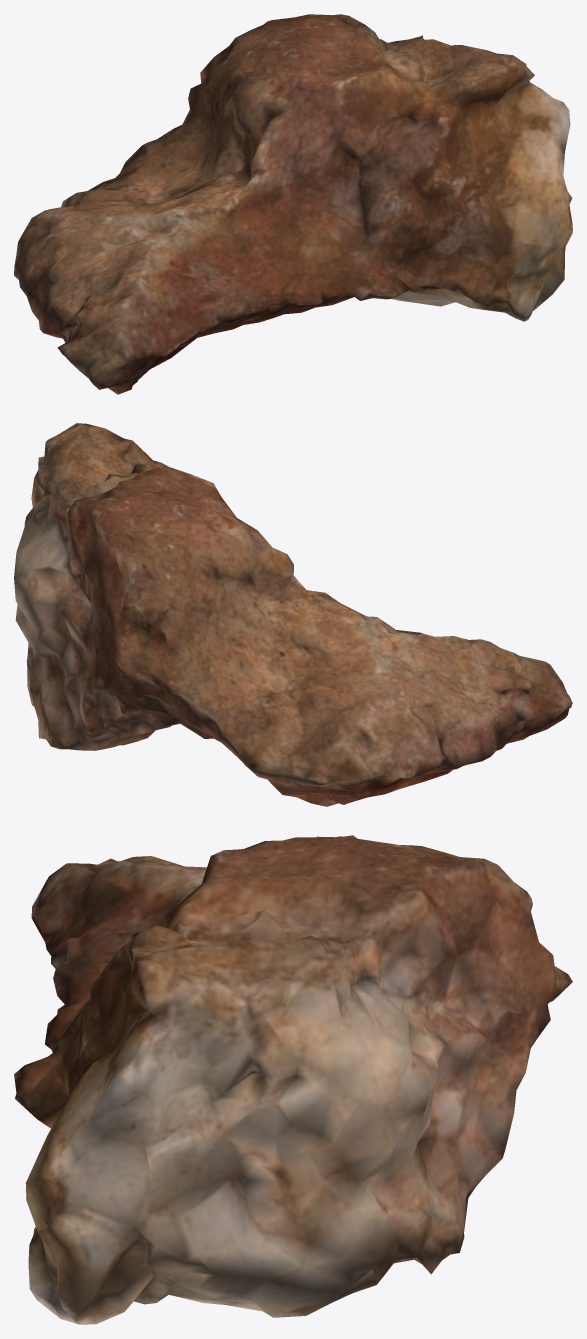
Rendered from stone_01_wood.glb.
The picture shows the model from 3 angles, top to bottom: view 1: azimuth 30°, elevation 25°; view 2: azimuth 150°, elevation 25°; view 3: azimuth 270°, elevation 25°; orthographic projection. The views are drawn at different scales.
Visible parts, largest first — view 1: stone_01; view 2: stone_01; view 3: stone_01.
Part boxes in pixels (x1,y1,x2,y2): stone_01: (14,14,572,394); stone_01: (14,423,572,806); stone_01: (14,835,572,1324).
Bounding box in the file's own units: 0.1465 × 0.0718 × 0.089.
1 material, 1 textured.
